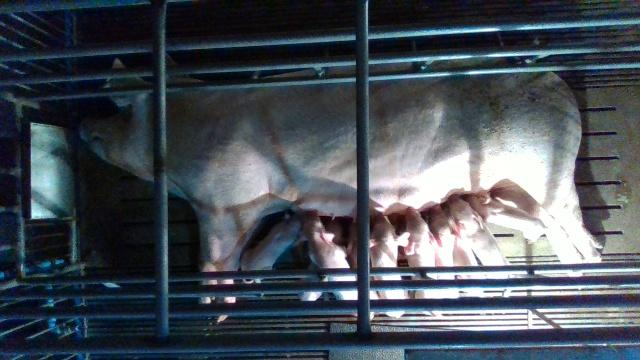piglet: (295, 212, 375, 319), (447, 192, 511, 278), (238, 212, 307, 287), (431, 201, 485, 295), (369, 213, 412, 318), (468, 192, 549, 244), (405, 206, 442, 317), (295, 218, 343, 300)
sow-sleep-lactate: (78, 58, 604, 302)
